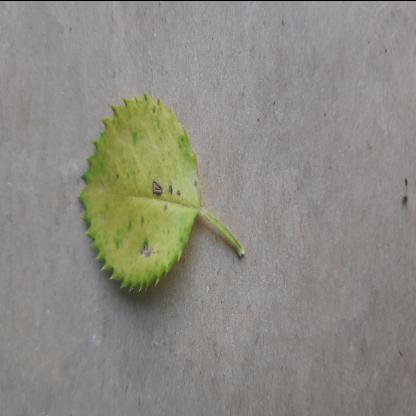black-spot: (76, 85, 205, 303)
